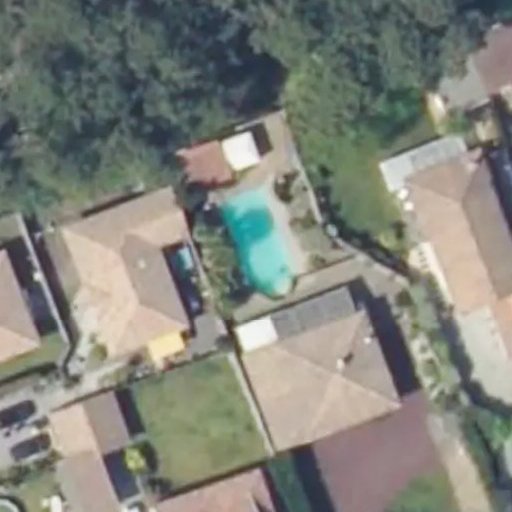pool: (213, 187, 309, 297)
